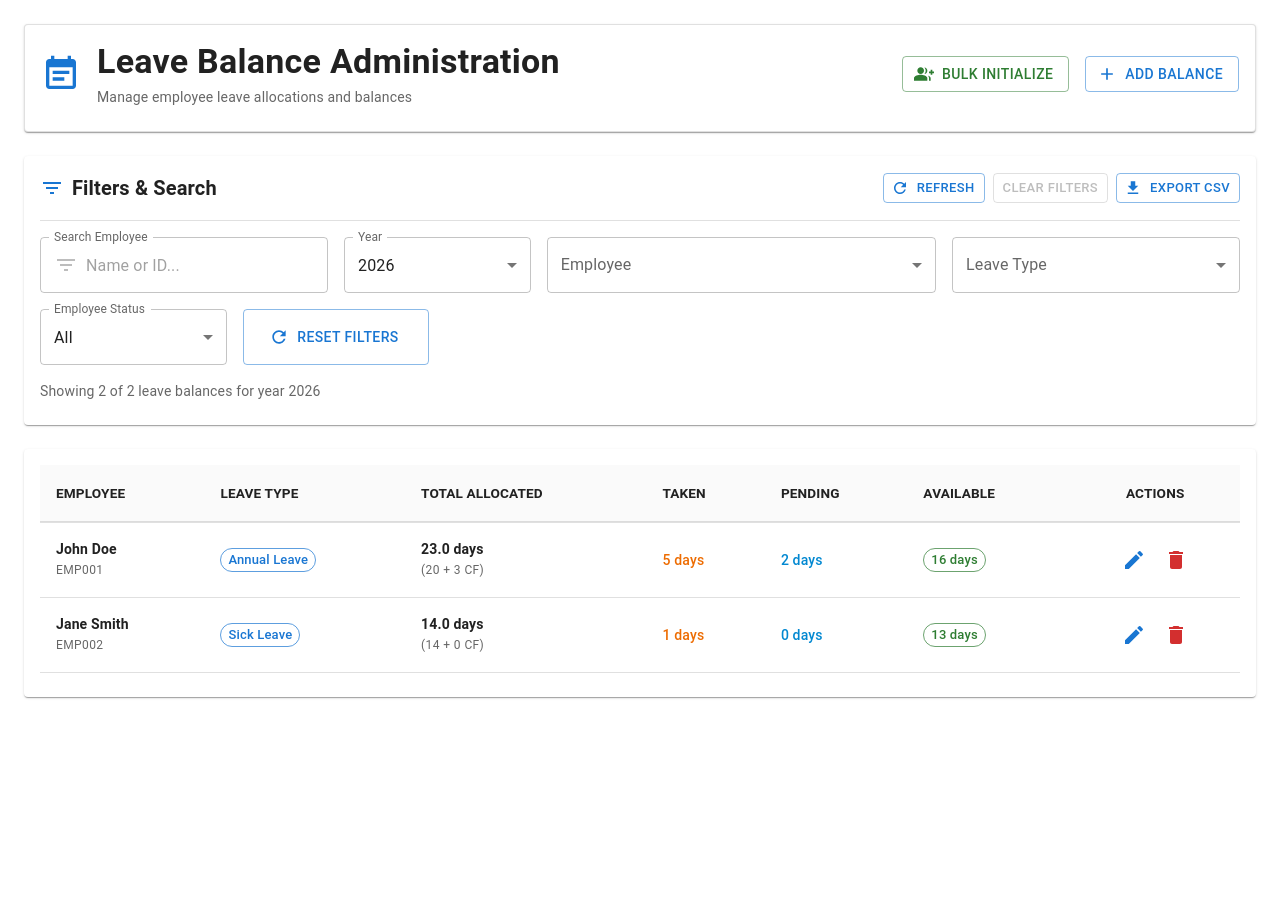
it: LeaveBalanceModern › Search & Filters › clears filters when Clear Filters is clicked
The image size is (1280, 900).
Expected: the text "John Doe" is shown, left=56, top=539, right=117, bottom=559
Type "Jane" into the field with test id "leave-search-input" at (207, 265), box left=86, top=237, right=328, bottom=293
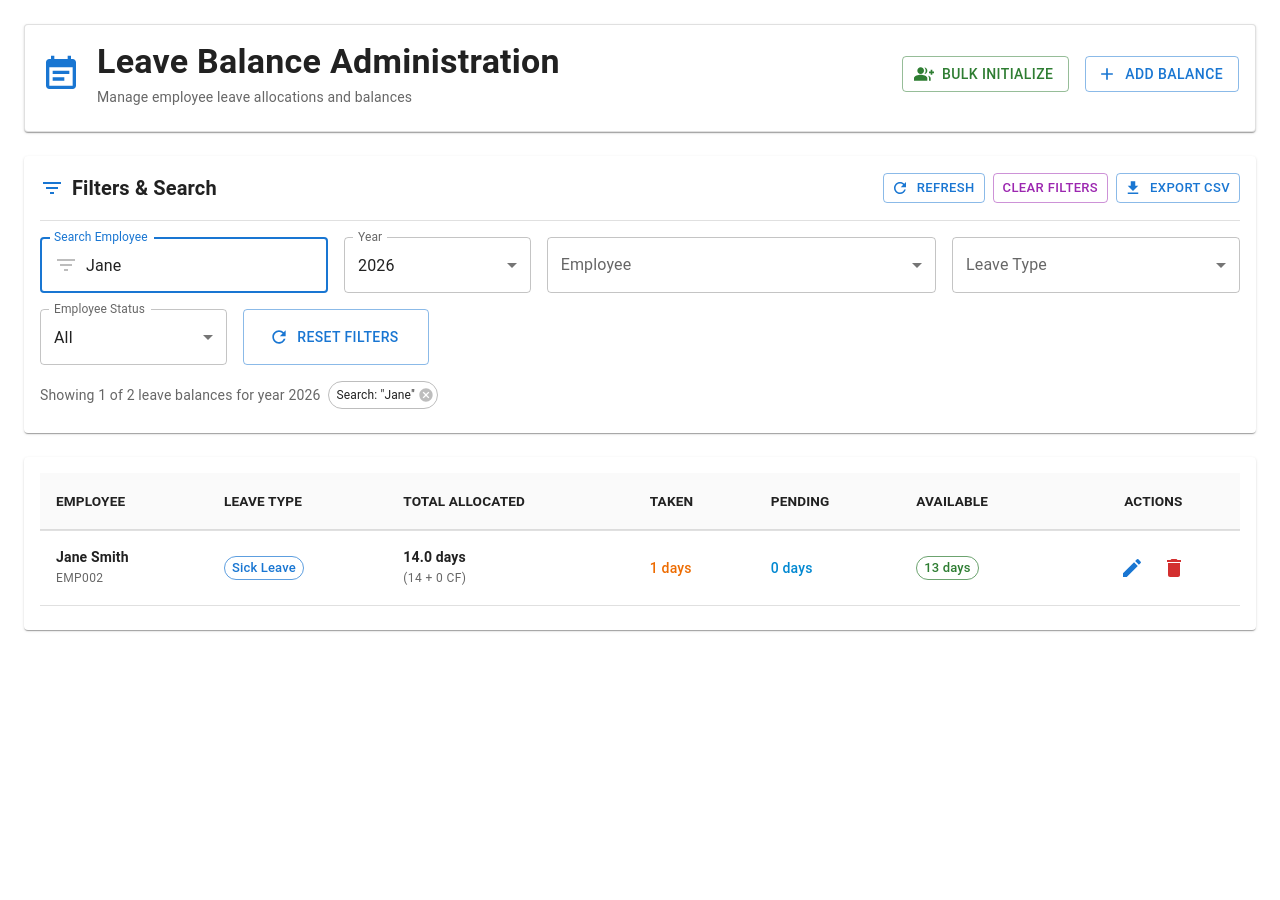
Expected: the text "John Doe" is gone
Note: Clear filters (need to find the non-disabled one)
Click the button "Clear Filters" at (1050, 188), box left=993, top=173, right=1108, bottom=203
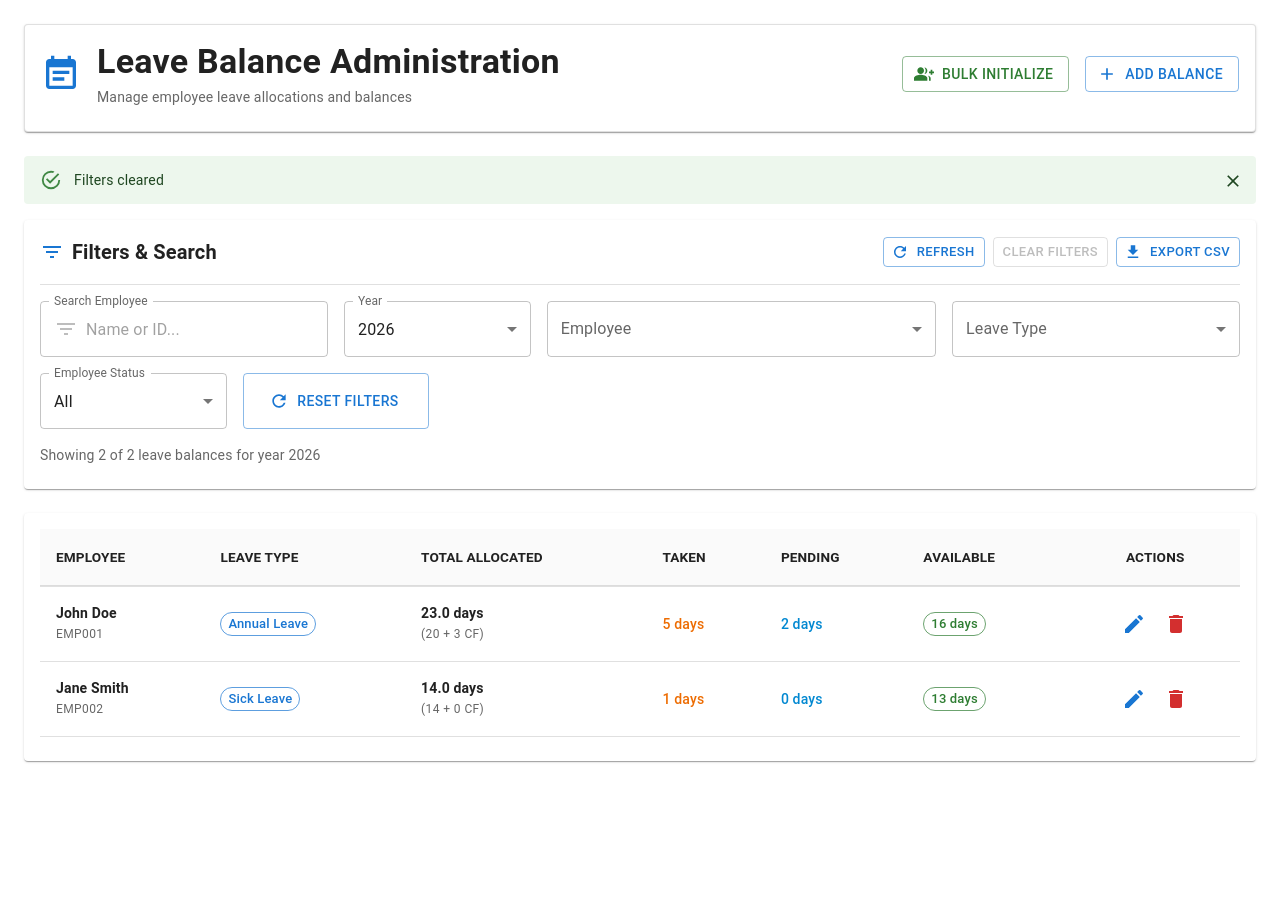
Expected: the text "Filters cleared" is shown, left=74, top=172, right=164, bottom=188
